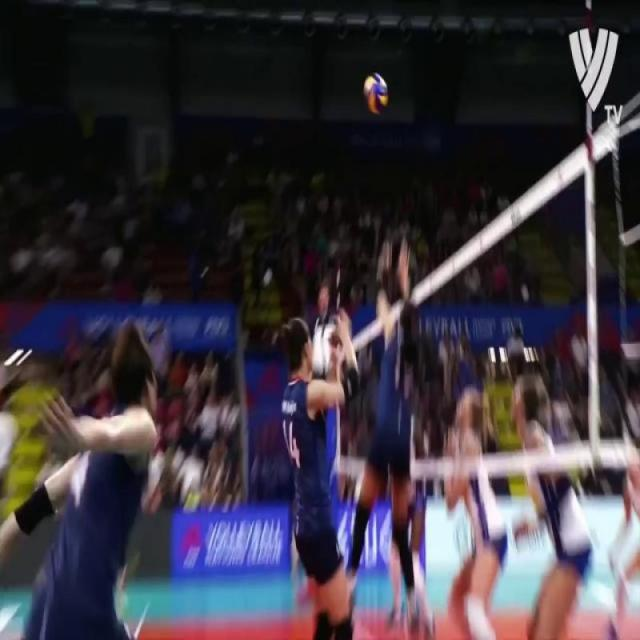volleyball: (364, 72, 386, 116)
